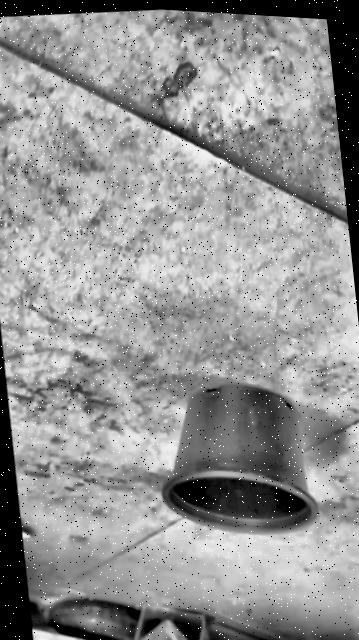pot: (150, 372, 318, 546)
